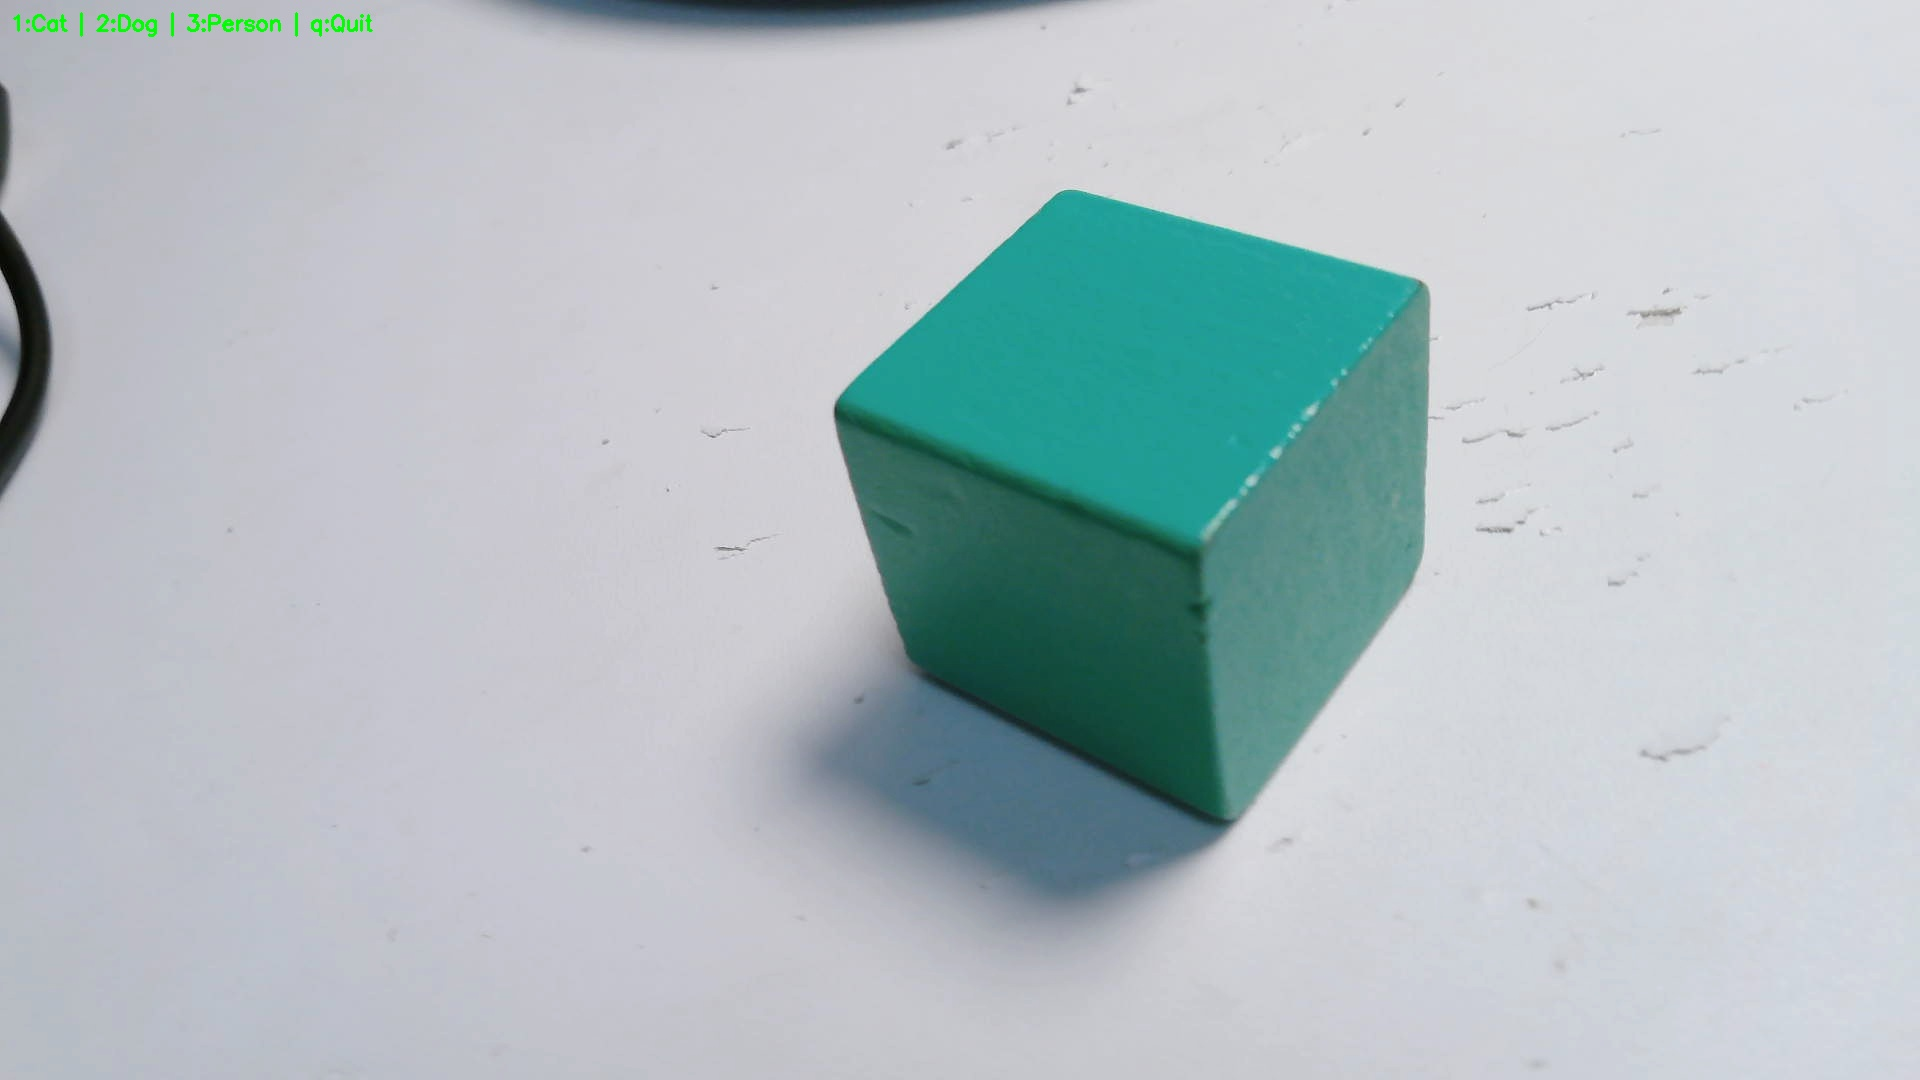green: (832, 185, 1432, 829)
